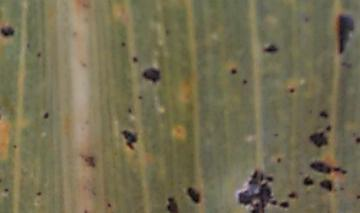tarspot: (236, 170, 278, 213), (336, 12, 354, 55), (310, 160, 348, 175), (123, 129, 137, 151), (309, 131, 328, 147), (143, 68, 160, 82), (188, 186, 200, 203), (166, 198, 179, 213), (1, 25, 15, 38), (320, 179, 333, 191), (84, 156, 96, 168), (264, 44, 278, 53), (340, 61, 353, 69), (304, 177, 314, 186), (280, 200, 289, 208), (319, 111, 328, 118), (304, 15, 310, 24), (231, 67, 237, 75), (43, 112, 49, 119), (276, 157, 282, 164), (339, 185, 345, 192), (242, 79, 248, 85), (289, 88, 295, 94), (36, 191, 42, 197), (273, 132, 279, 138), (133, 56, 138, 63), (326, 124, 331, 131), (355, 136, 360, 143), (289, 193, 296, 198), (165, 29, 170, 36), (26, 42, 31, 49), (3, 187, 9, 192), (107, 203, 112, 208), (37, 51, 41, 57), (121, 41, 125, 47), (137, 95, 143, 99), (128, 108, 132, 113), (13, 144, 17, 149), (357, 194, 360, 199), (84, 208, 87, 213)
